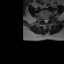CCS_normal: (45, 17, 46, 24)
LFS_normal: (48, 16, 50, 21)
LLS_normal: (46, 17, 48, 23)
RFS_stenosis: (42, 17, 43, 22)
RLS_normal: (43, 17, 45, 23)
